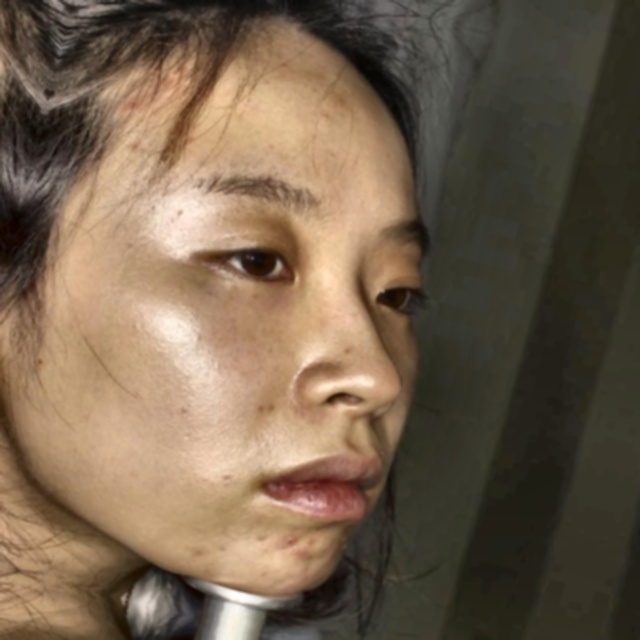comedone: (162, 58, 195, 102), (290, 537, 323, 570), (112, 88, 146, 120)
